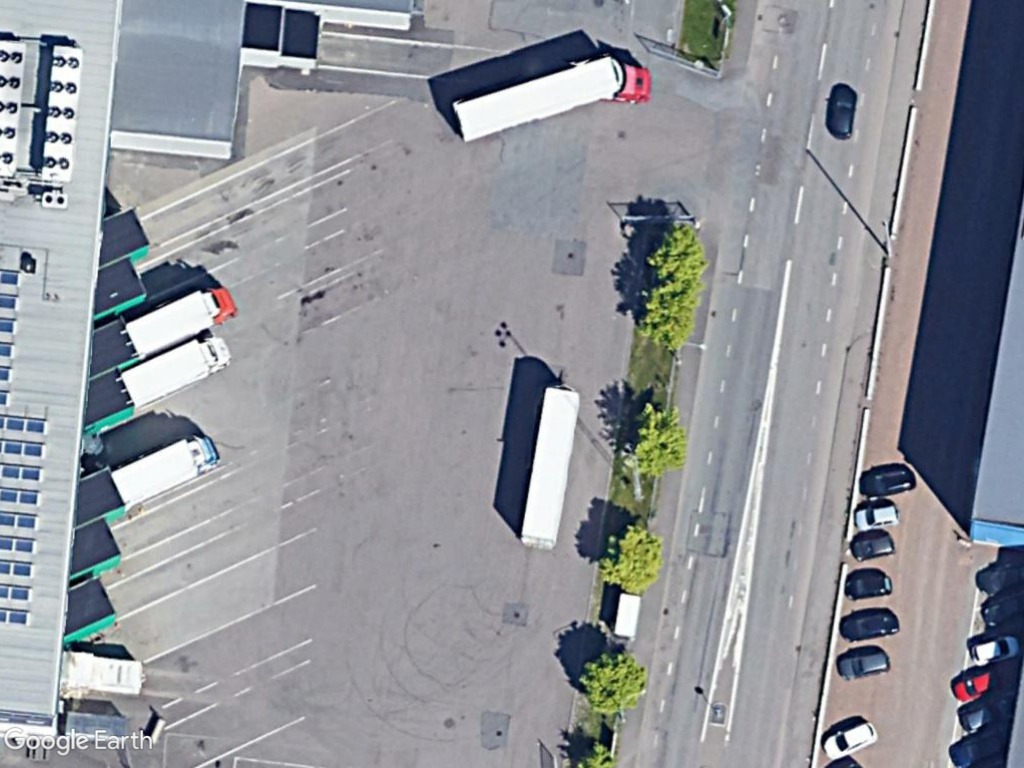car: (813, 716, 884, 765), (833, 604, 904, 649), (943, 663, 1002, 710), (851, 462, 919, 502), (838, 565, 903, 606), (823, 78, 859, 144), (965, 629, 1022, 667), (837, 646, 897, 682), (849, 498, 906, 534), (846, 528, 897, 560)
longvehicle: (446, 54, 652, 149)
truck: (104, 421, 226, 517), (123, 276, 240, 362), (114, 328, 235, 409)
